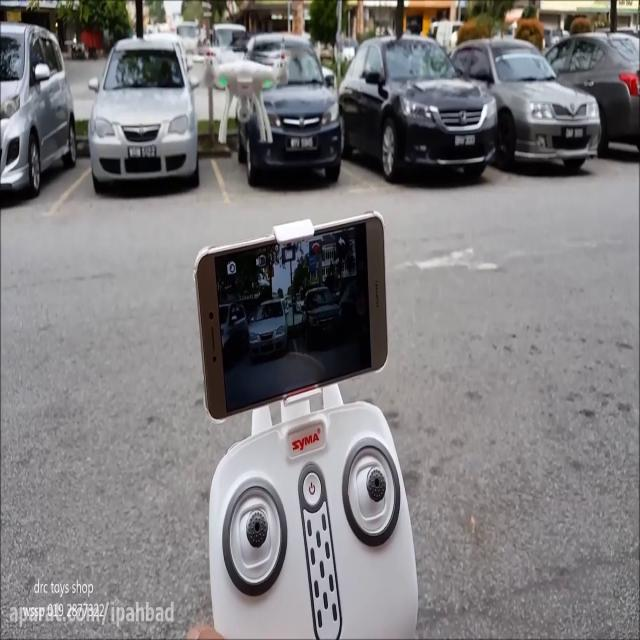drone: (195, 39, 306, 141)
